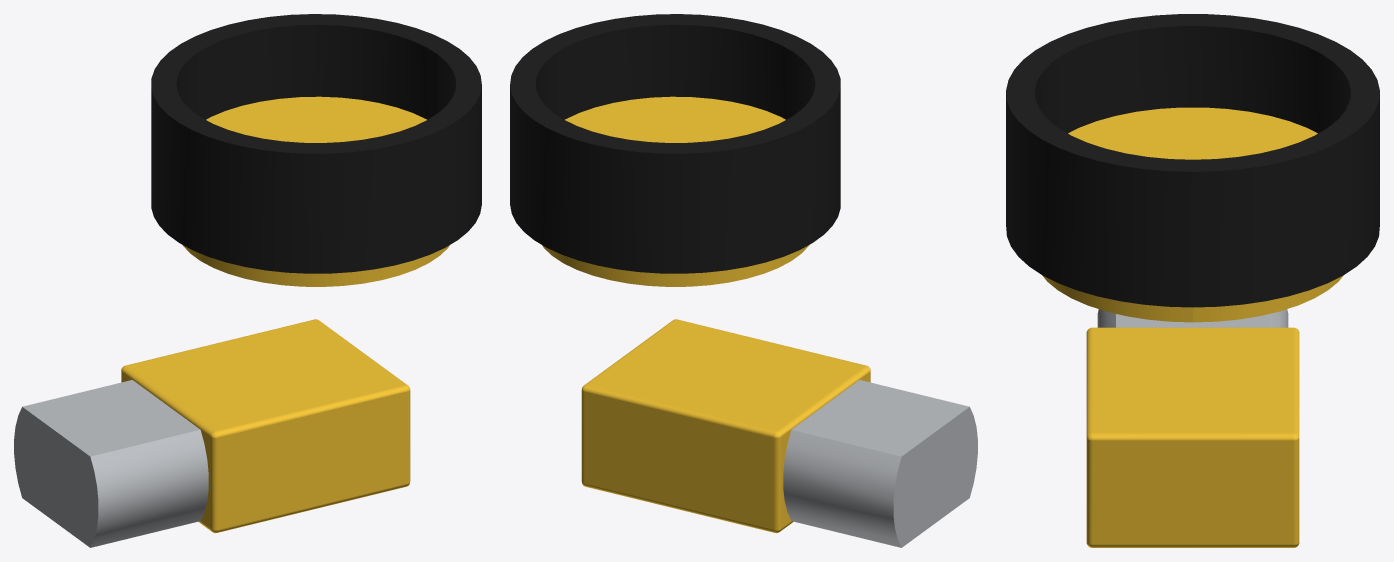
File: motor-tt-gear.glb
3 renders of one model, left to right at view 1: azimuth 30°, elevation 25°; view 2: azimuth 150°, elevation 25°; view 3: azimuth 270°, elevation 25°, orthographic. The views are drawn at different scales.
Visible parts, largest first — view 1: tyre, body, motor_can, rim; view 2: tyre, body, motor_can, rim; view 3: tyre, body, rim, motor_can.
Part boxes in pixels (<box>): tyre: <box>151,14,481,273</box>; body: <box>121,319,410,533</box>; motor_can: <box>14,380,208,547</box>; rim: <box>182,96,449,286</box>; tyre: <box>510,14,840,273</box>; body: <box>581,319,870,533</box>; motor_can: <box>783,380,977,547</box>; rim: <box>542,96,809,286</box>; tyre: <box>1006,14,1379,307</box>; body: <box>1086,327,1299,547</box>; rim: <box>1042,107,1343,322</box>; motor_can: <box>1097,309,1288,327</box>.
Size of the model in its own units: 91.5 by 82.5 by 64.96.
